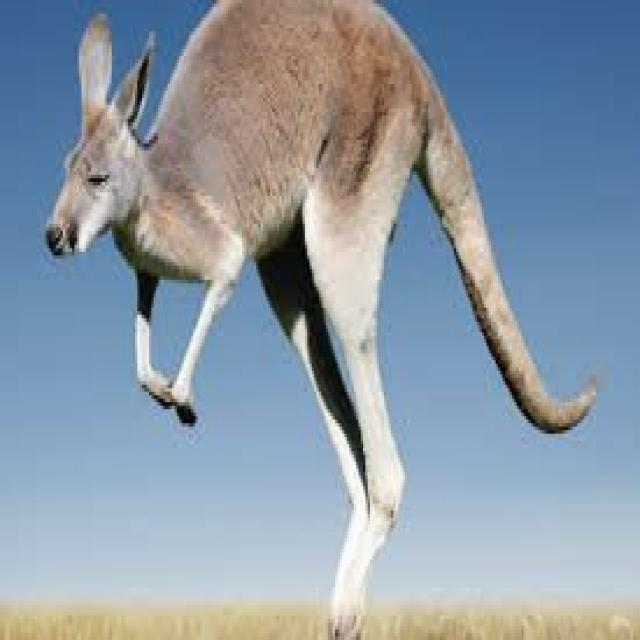kangaroo: (47, 0, 593, 637)
